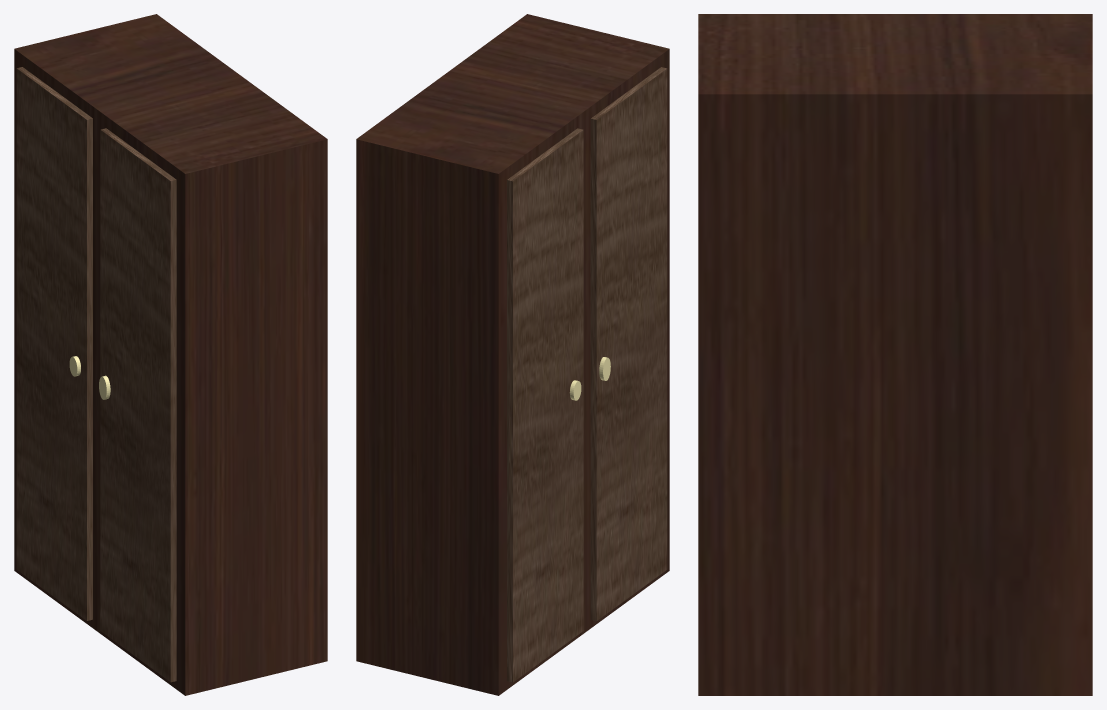
The model's file is Storage.fbx.
3 renders of one model, left to right at view 1: azimuth 30°, elevation 25°; view 2: azimuth 150°, elevation 25°; view 3: azimuth 270°, elevation 25°, orthographic. The views are drawn at different scales.
Visible parts, largest first — view 1: Cube; view 2: Cube; view 3: Cube.
Part boxes in pixels (bbox=[...]): Cube: bbox=[14, 14, 327, 695]; Cube: bbox=[356, 14, 669, 695]; Cube: bbox=[698, 14, 1092, 695].
Bounding box in the file's own units: 214 × 700 × 416.
